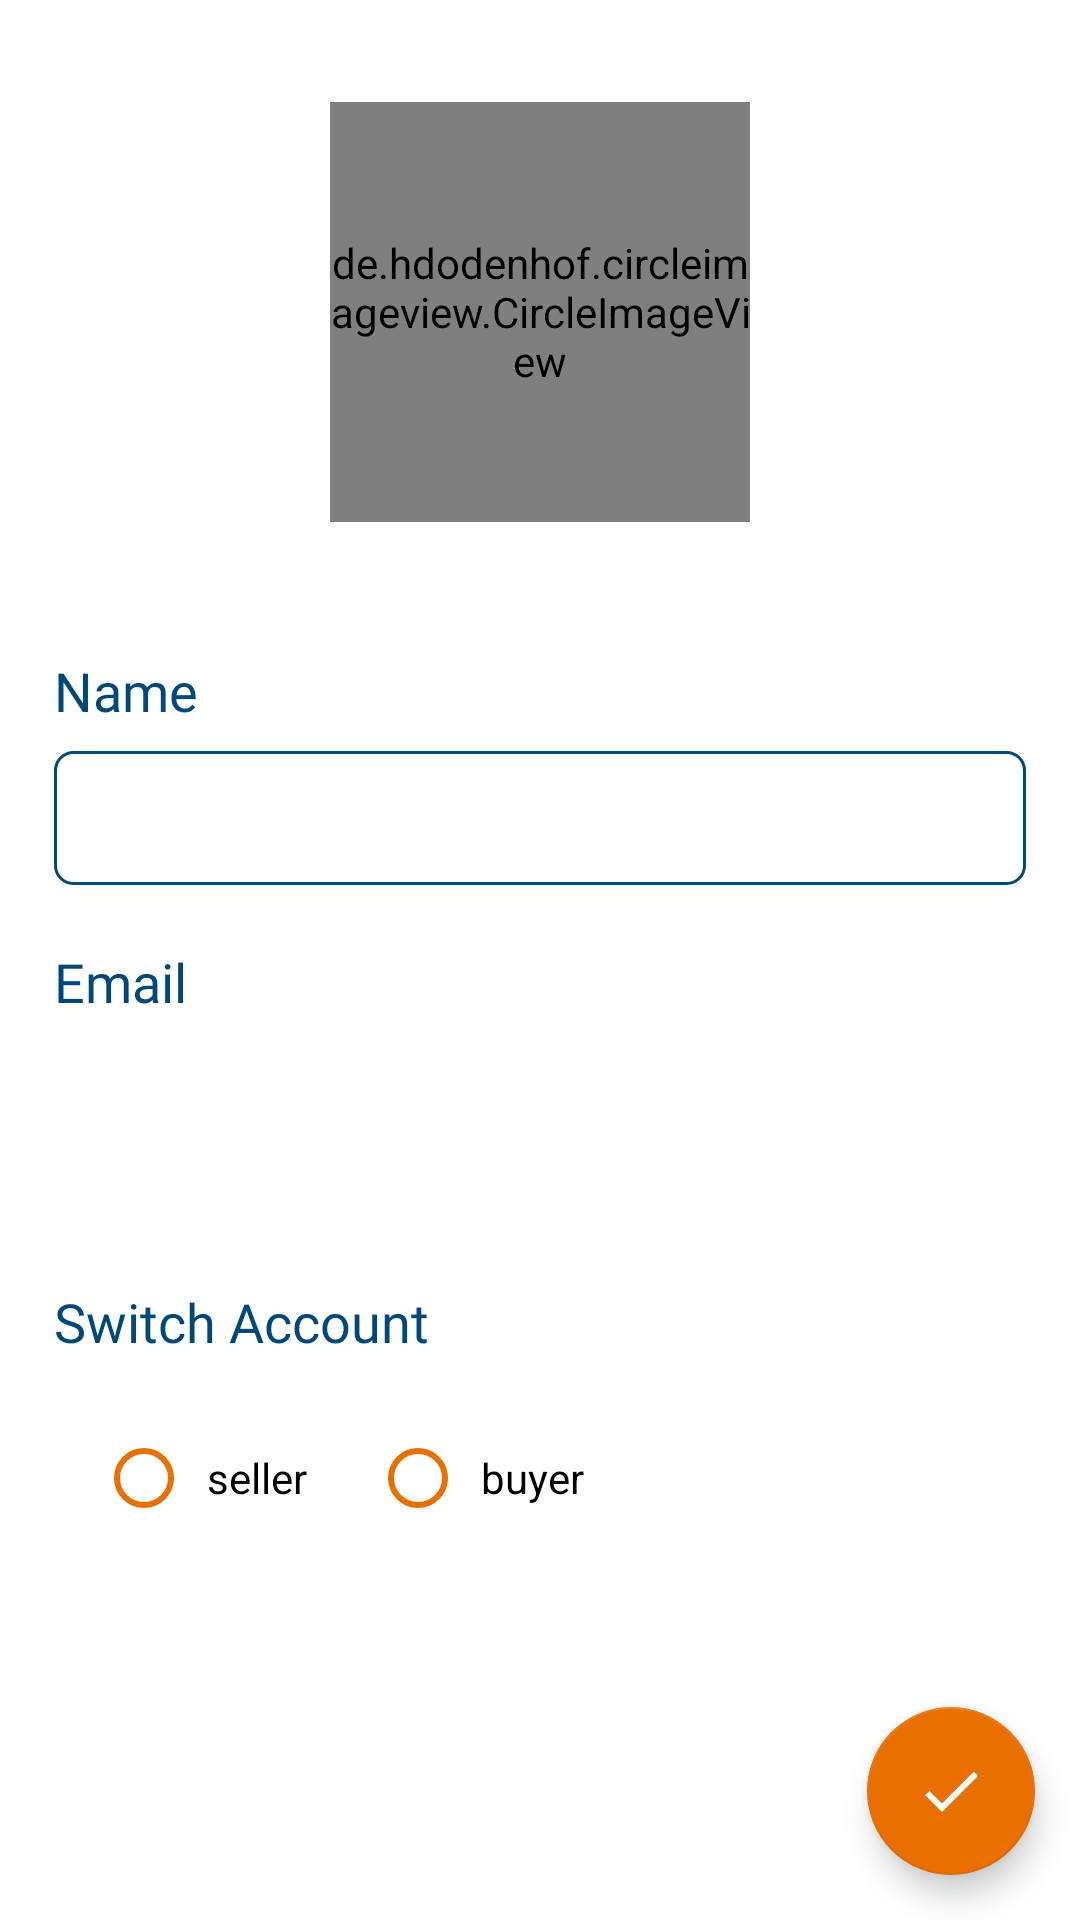

Icons on this 1080w x 1920h Android screen, each with the point to tap as [x,y]:
check: [951,1791]
